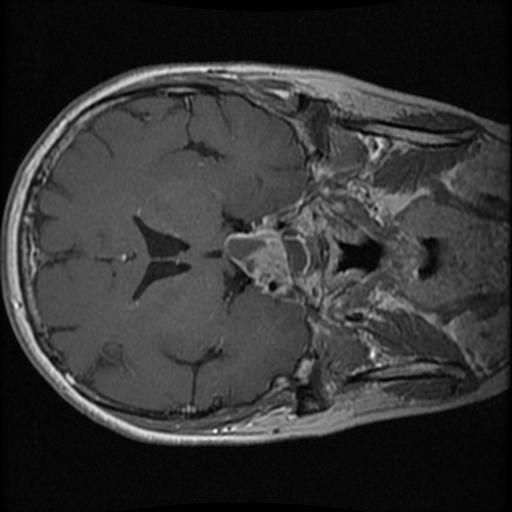pituitary tumour: (224, 231, 309, 286)
